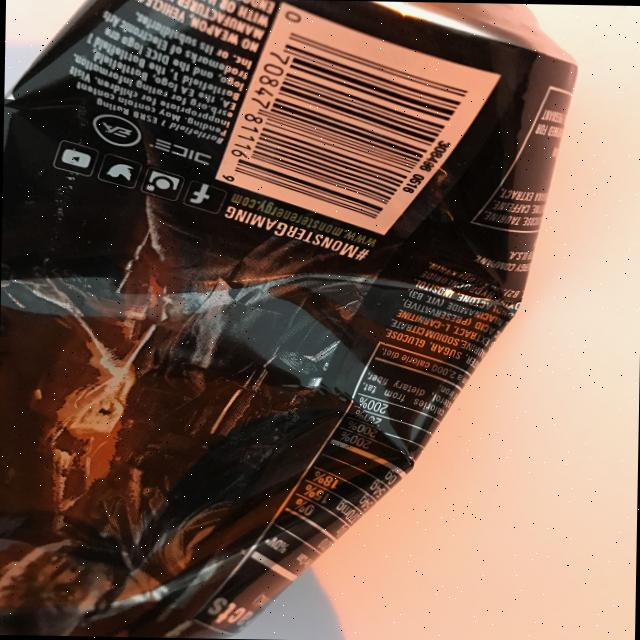metal: (0, 0, 578, 640)
